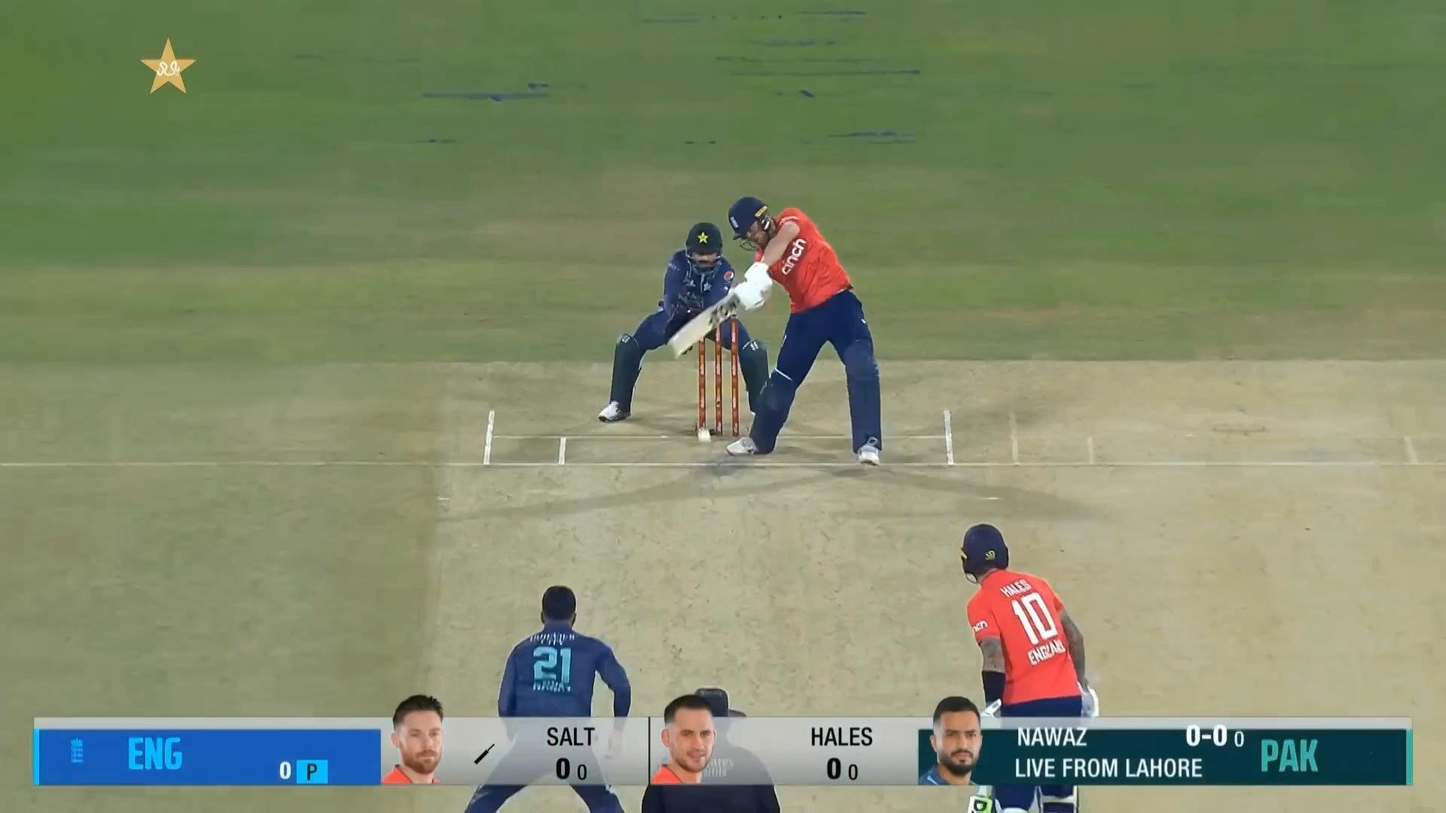BM 1: (667, 194, 884, 469)
BO: (464, 585, 632, 813)
